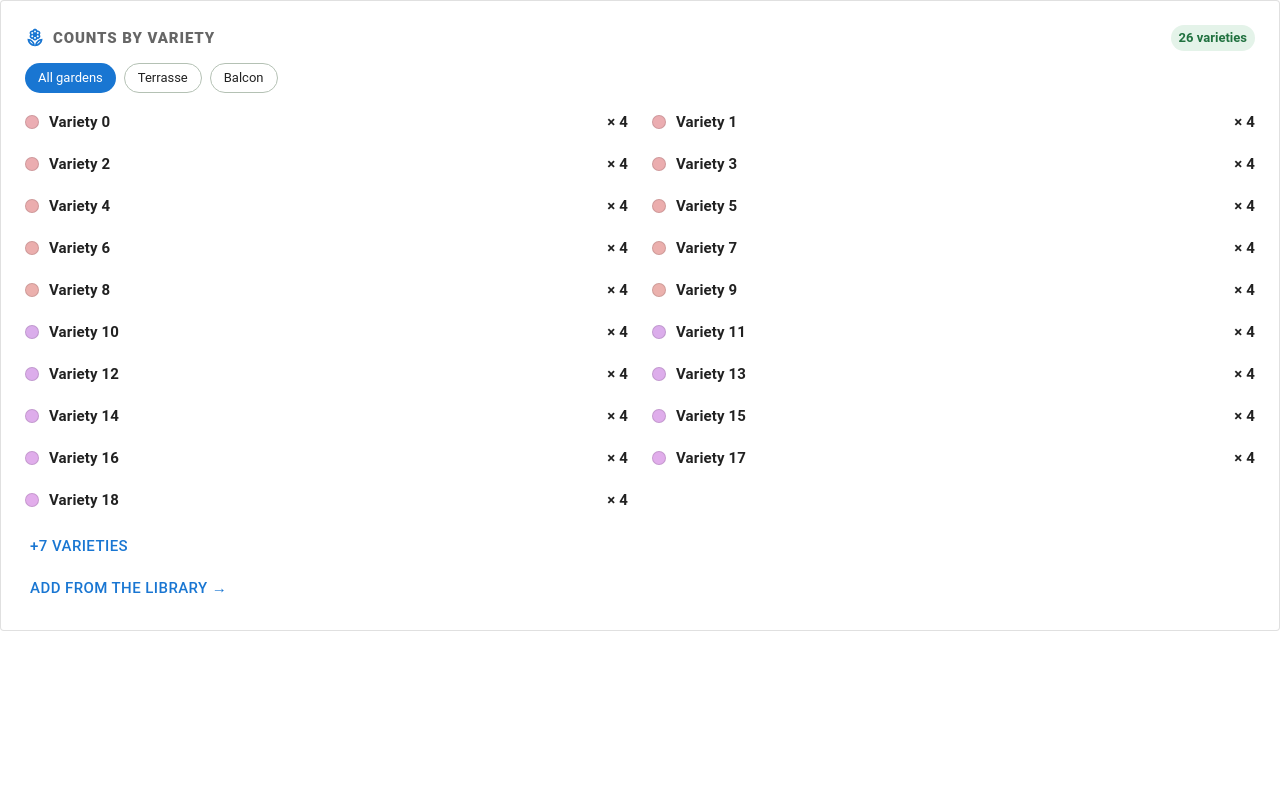
Test case: CountersBlock — the density lock survives a resize and a filter change (round 6) › an expanded list offers « Show fewer », which caps it again in place
The width and height of the screenshot is (1280, 800).
Expected: the text "Show fewer" is not shown
What coordinates should you click on to do the following:
click the button "+7 varieties"
I would click on:
 (79, 546)
Its box is [25,529,133,563].
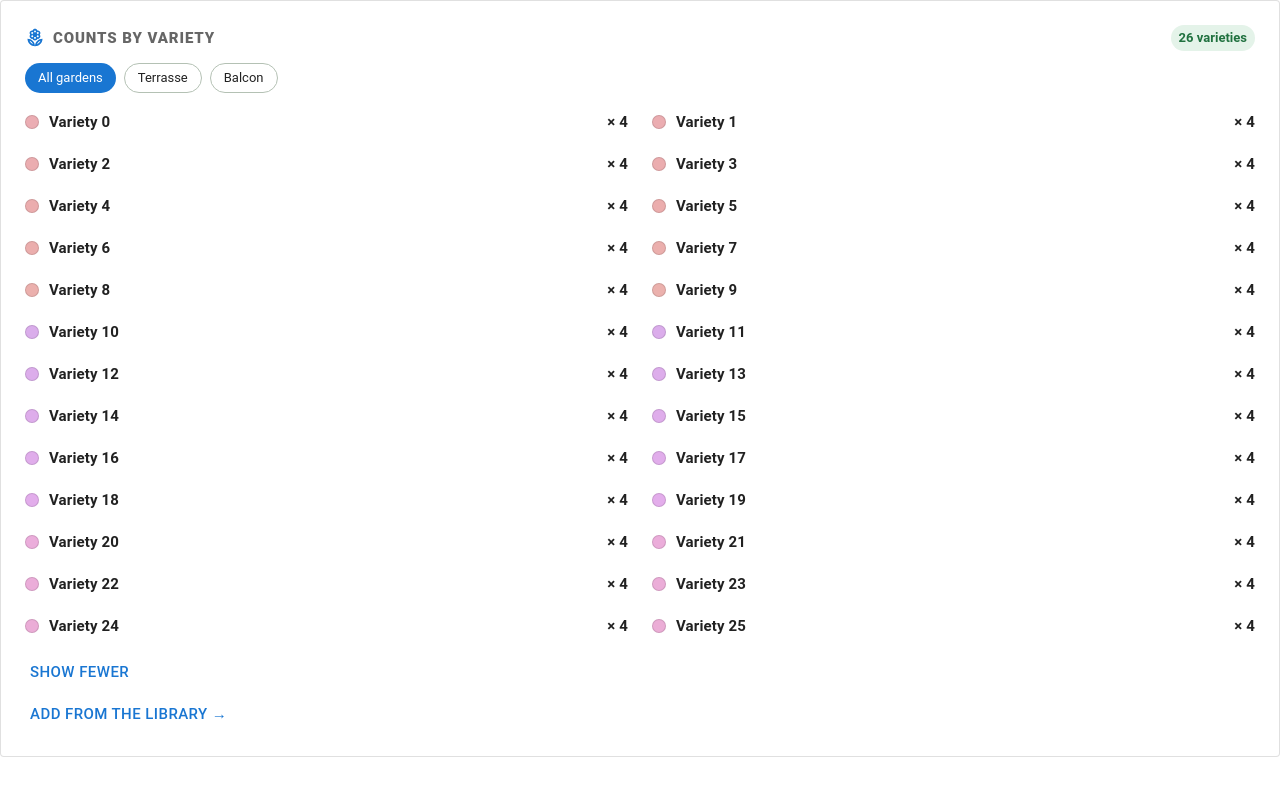
Result: the button "+7 varieties" is gone
What coordinates should you click on to do the following:
click the button "Show fewer"
I would click on:
 (80, 672)
Its box is [25,655,134,689].
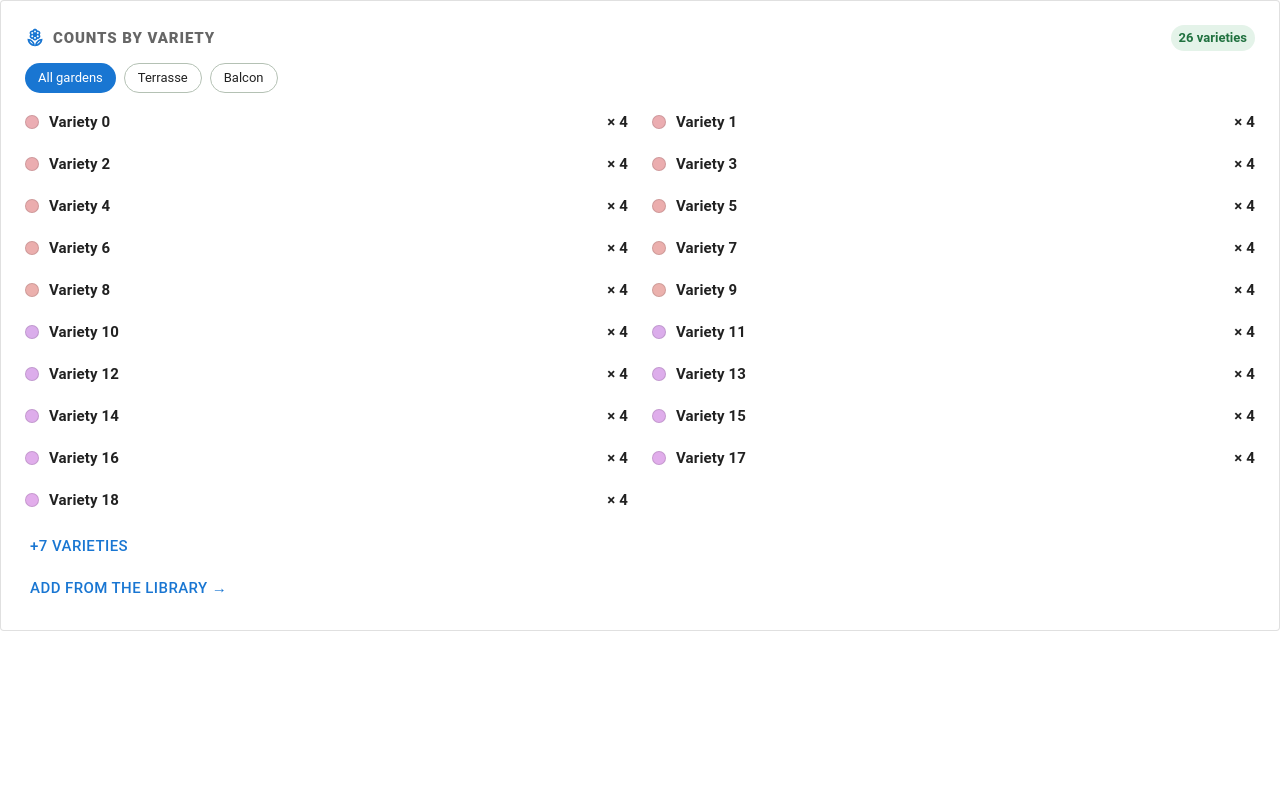
Result: the button "+7 varieties" is shown at [25,529,133,563]
Result: the button "Show fewer" is gone
